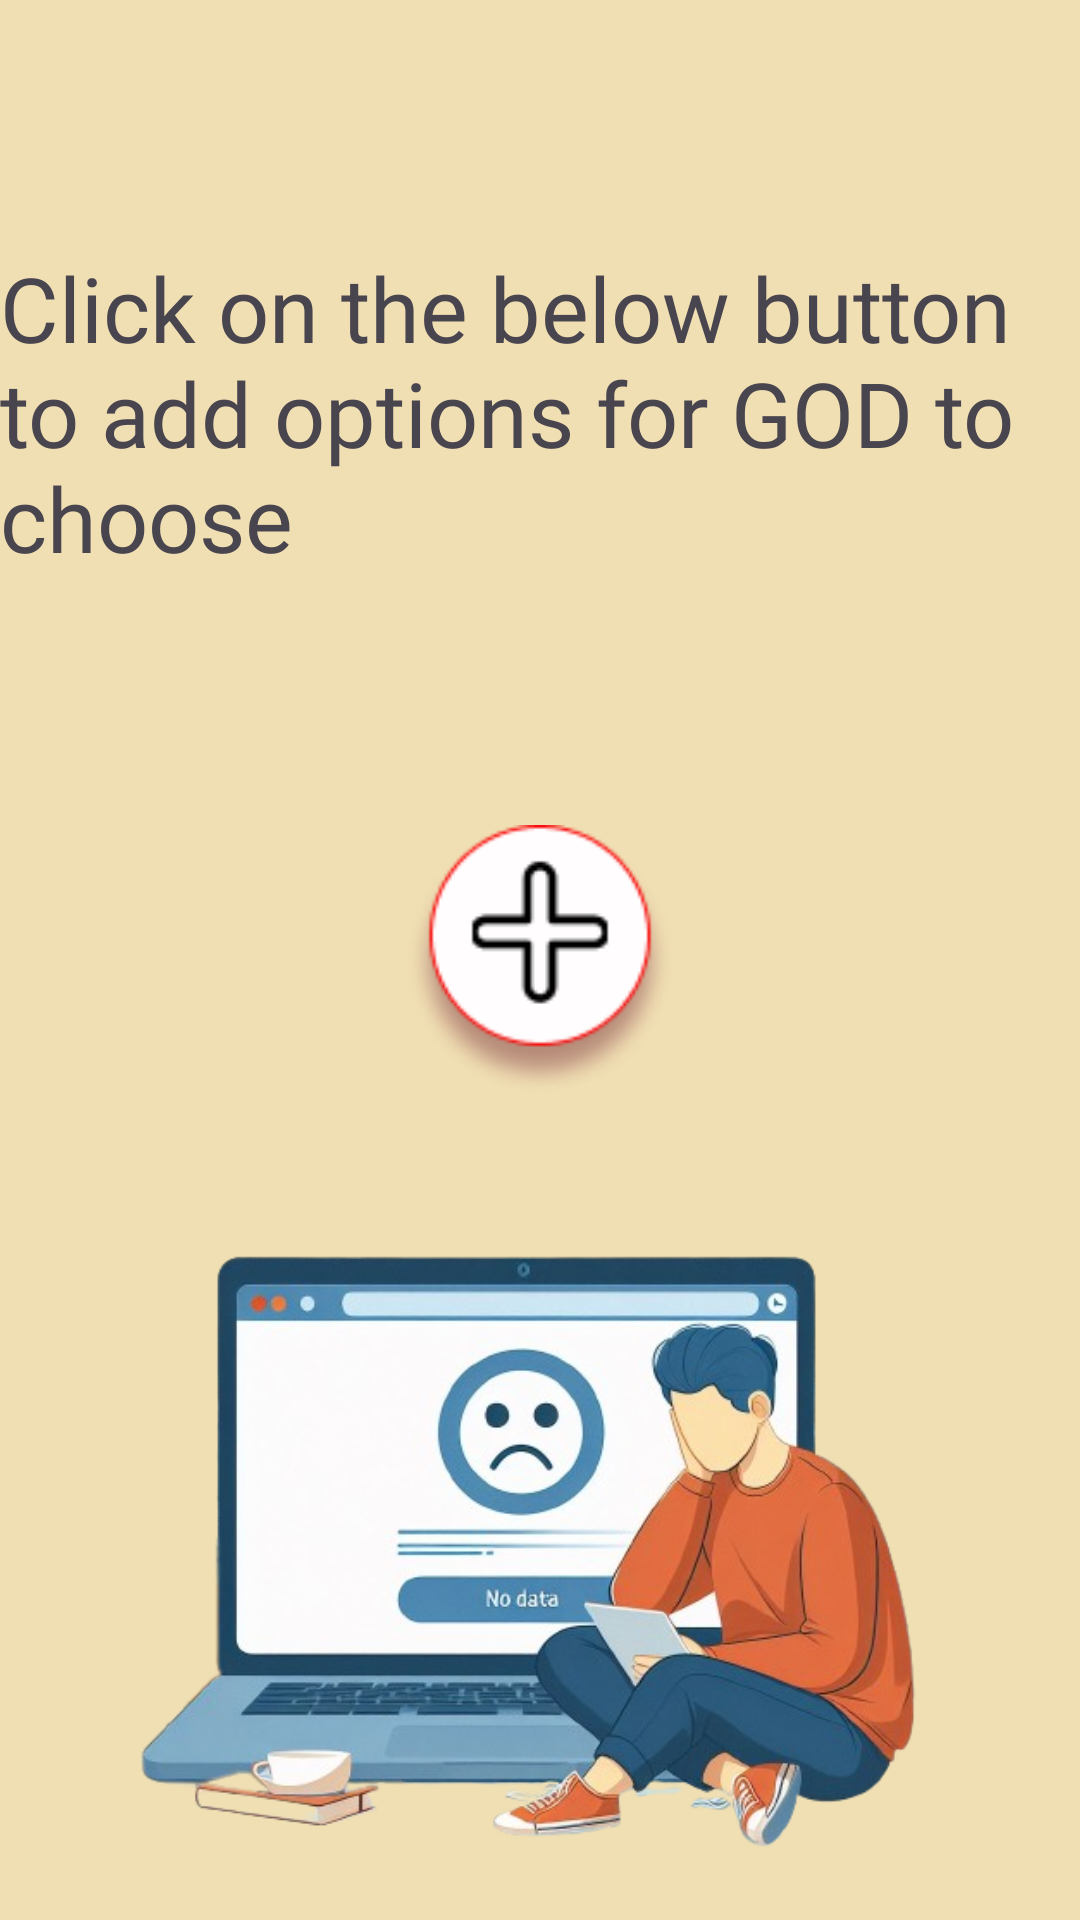

Icon click points for this 1080px×1920px phone screenshot, format point (x, y):
add: point (540, 951)
